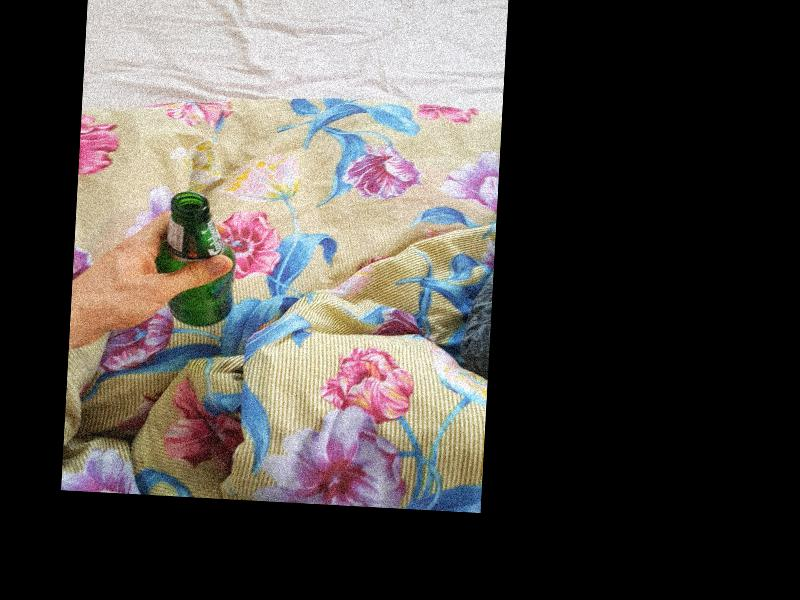Beer: (151, 192, 237, 328)
